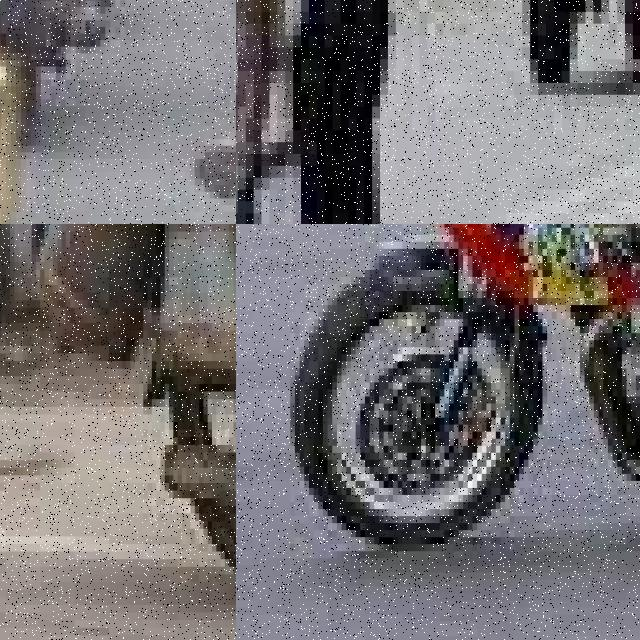bike: (281, 224, 640, 572), (122, 224, 236, 628), (236, 0, 411, 224), (0, 0, 125, 119)
